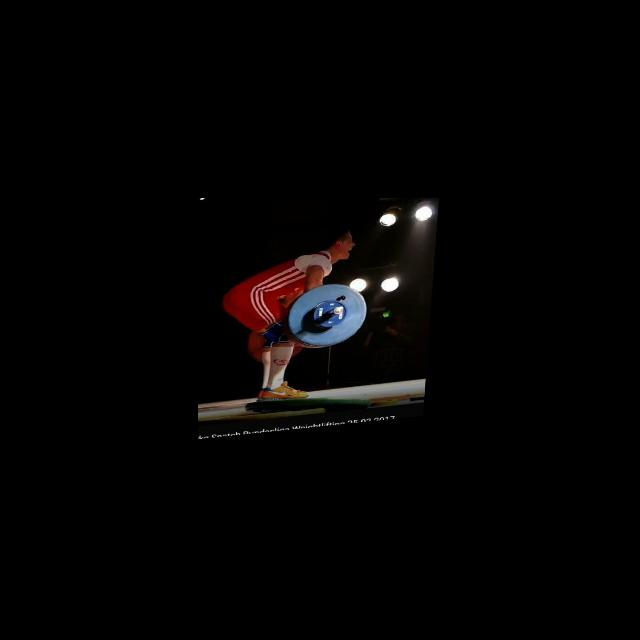barbell: (286, 280, 372, 354)
